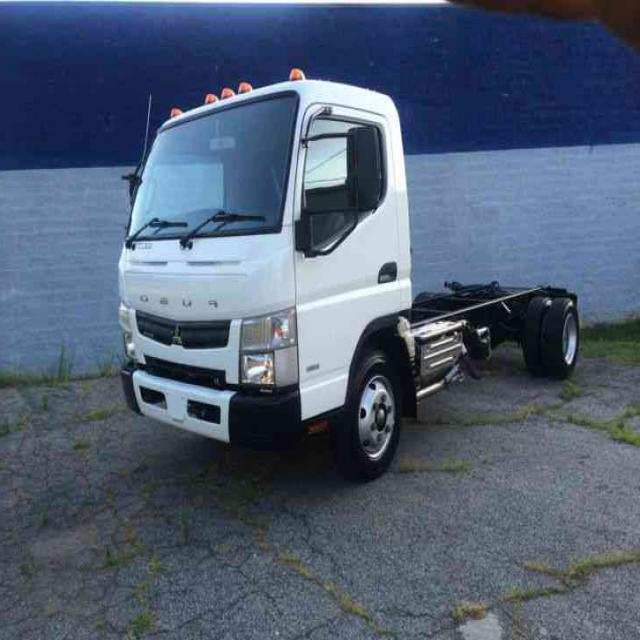truck: (118, 71, 583, 476)
